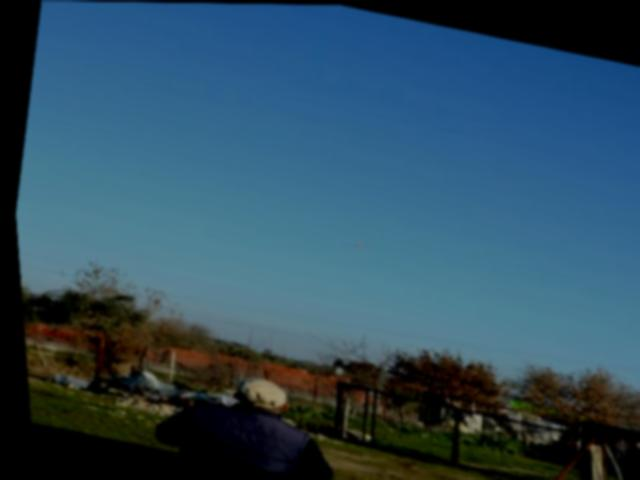iha: (339, 238, 369, 250)
